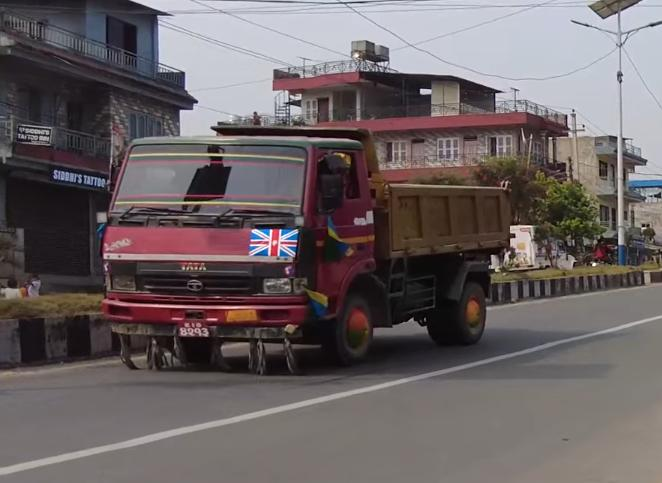mini_truck: (91, 122, 505, 363)
